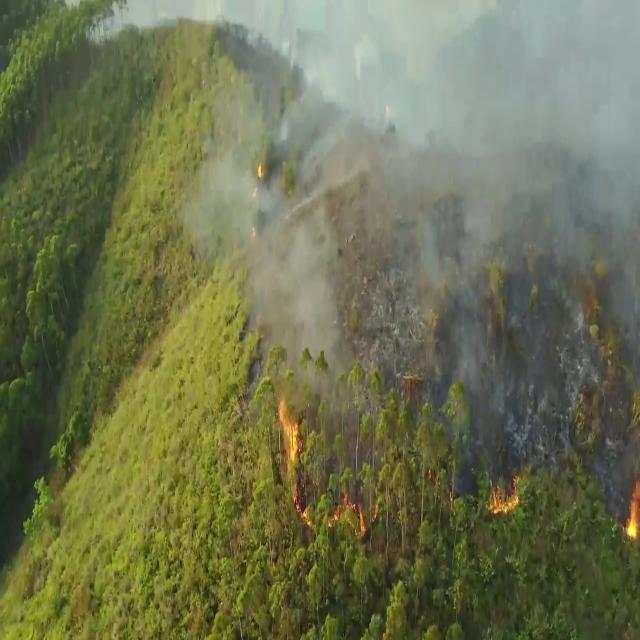Fire: (277, 398, 315, 532), (327, 491, 368, 534), (484, 472, 521, 515), (625, 478, 640, 543), (256, 162, 262, 178)
Smoke: (67, 1, 640, 497)
